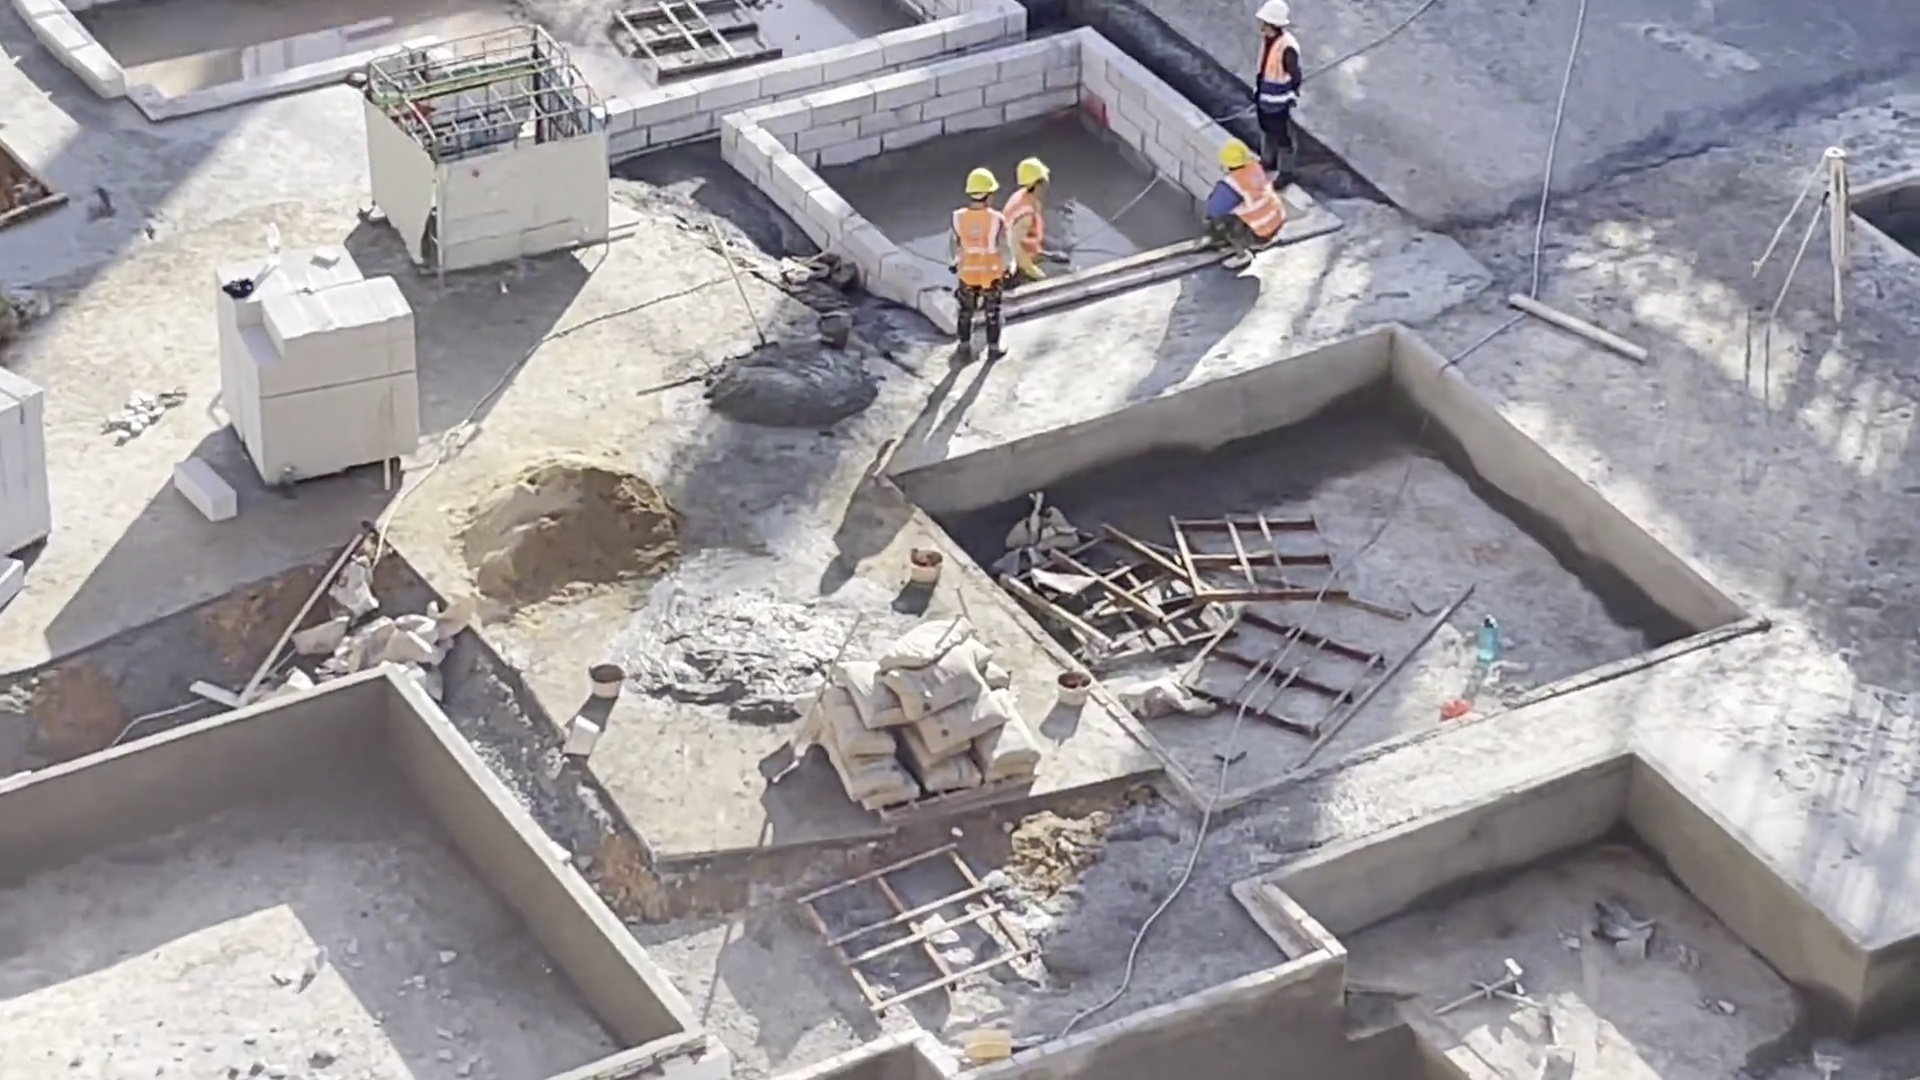helmet: (960, 163, 1004, 201), (1216, 138, 1252, 174), (1256, 1, 1289, 38), (1019, 157, 1052, 192)
person: (945, 157, 1008, 331), (1241, 4, 1308, 157), (1214, 139, 1289, 265), (1001, 149, 1063, 293)
vest: (955, 204, 1011, 290), (996, 187, 1048, 259), (1222, 172, 1279, 235), (1265, 41, 1304, 97)
